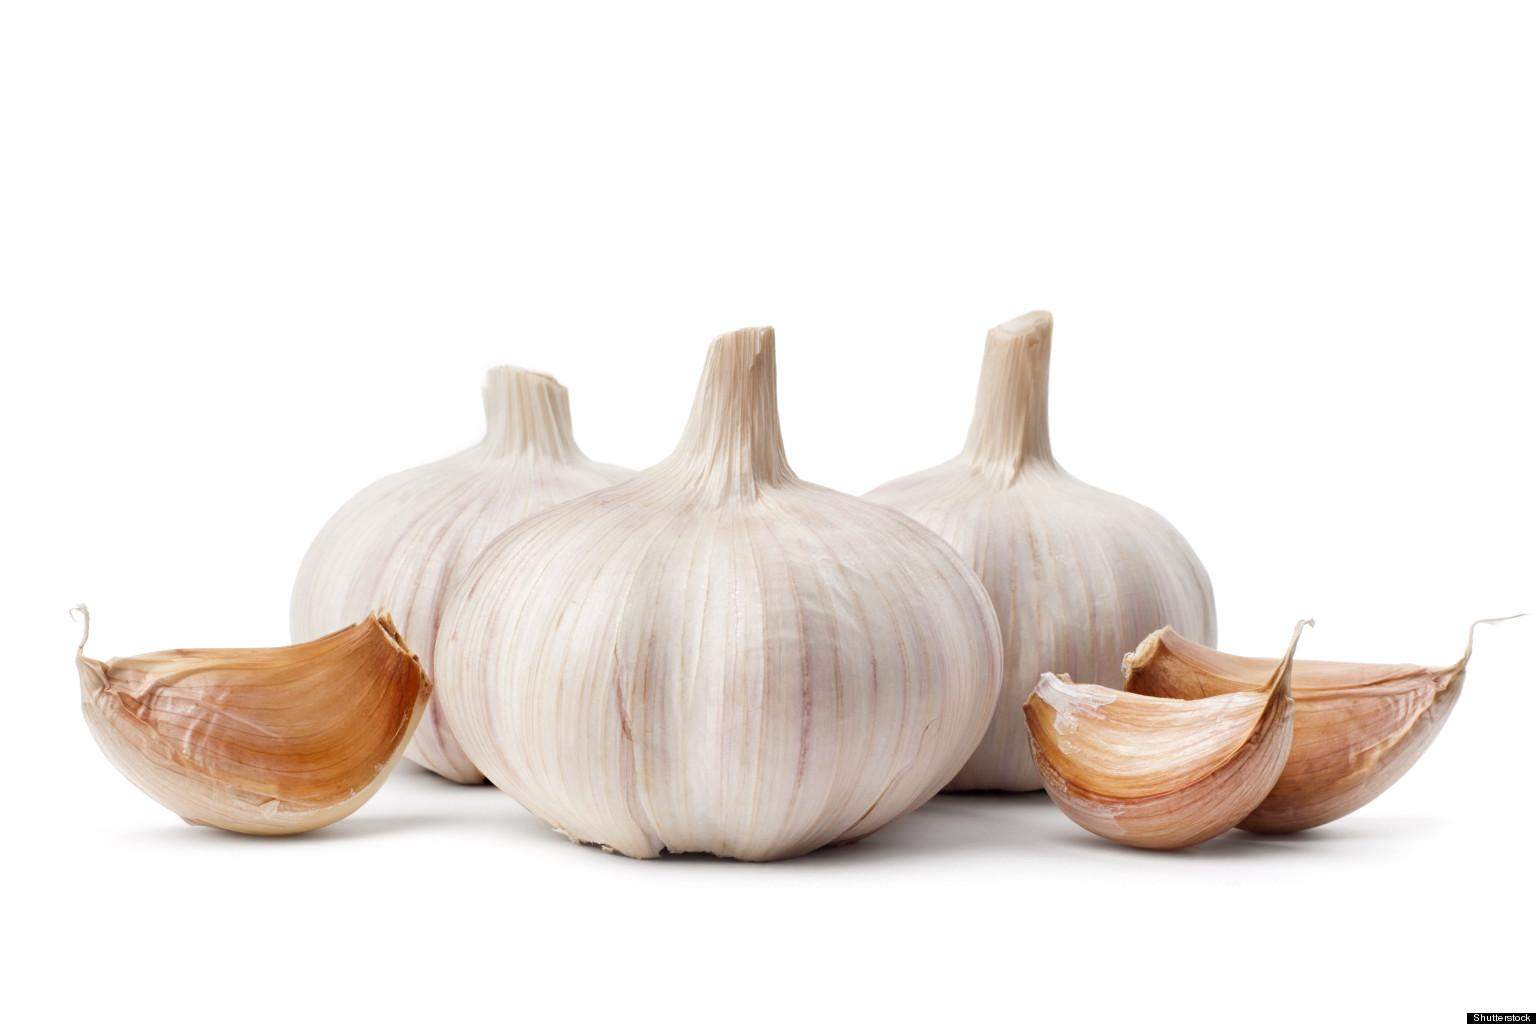garlic: (431, 323, 1003, 862), (857, 309, 1218, 794), (288, 363, 641, 787), (1118, 611, 1526, 835), (67, 600, 434, 837), (1019, 615, 1317, 850)
